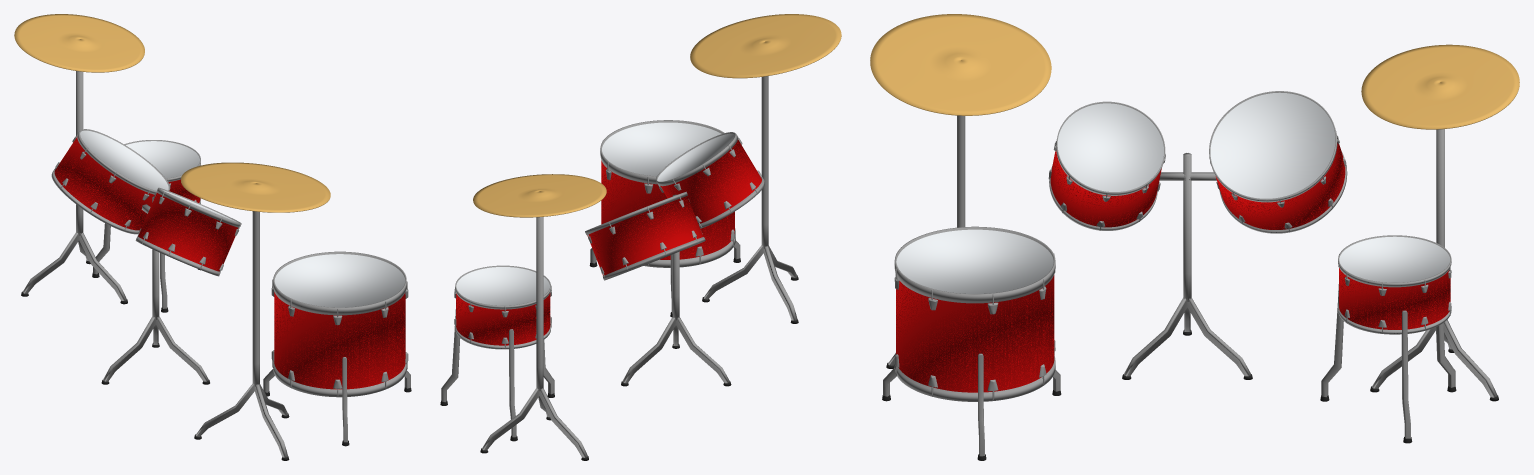
Rendered from drum.fbx.
The picture shows the model from 3 angles, left to right: view 1: azimuth 30°, elevation 25°; view 2: azimuth 150°, elevation 25°; view 3: azimuth 270°, elevation 25°; orthographic projection. The views are drawn at different scales.
Visible parts, largest first — view 1: Cylinder, Cylinder.004, Circle.001, Circle, Cylinder.002, Cube.003, Cylinder.003, Cube.010, Cube.012, Cube.002, Cube.011; view 2: Cylinder, Circle, Cylinder.003, Cylinder.002, Cylinder.004, Circle.001, Cube.003, Cube.010, Cube.012, Cube.011, Cube.002; view 3: Cylinder, Cylinder.004, Circle, Cylinder.002, Circle.001, Cylinder.003, Cube.012, Cube.010, Cube.011, Cube.002, Cube.003.
Boxes of the visible parts, box(x1,y1,x2,y2) form: Cylinder: box(273, 251, 406, 397); Cylinder.004: box(51, 129, 170, 234); Circle.001: box(14, 14, 144, 72); Circle: box(181, 162, 330, 212); Cylinder.002: box(135, 187, 241, 275); Cube.003: box(194, 211, 289, 460); Cylinder.003: box(124, 140, 200, 203); Cube.010: box(21, 71, 127, 304); Cube.012: box(101, 196, 209, 384); Cube.002: box(263, 357, 411, 446); Cube.011: box(92, 223, 200, 312); Cylinder: box(600, 120, 735, 267); Circle: box(690, 14, 841, 78); Cylinder.003: box(455, 265, 550, 349); Cylinder.002: box(656, 132, 764, 228); Cylinder.004: box(585, 191, 705, 280); Circle.001: box(473, 174, 606, 217); Cube.003: box(702, 76, 798, 323); Cube.010: box(480, 217, 588, 460); Cube.012: box(621, 194, 731, 386); Cube.011: box(440, 309, 554, 441); Cube.002: box(589, 241, 740, 317); Cylinder: box(894, 226, 1055, 401); Cylinder.004: box(1209, 91, 1347, 233); Circle: box(870, 14, 1051, 115); Cylinder.002: box(1049, 101, 1165, 230); Circle.001: box(1361, 44, 1519, 129); Cylinder.003: box(1338, 235, 1451, 334); Cube.012: box(1122, 153, 1252, 379); Cube.010: box(1370, 129, 1498, 401); Cube.011: box(1320, 284, 1456, 443); Cube.002: box(882, 353, 1061, 460); Cube.003: box(886, 115, 965, 368).
Size of the model in its own units: 71.19 by 77.9 by 145.
